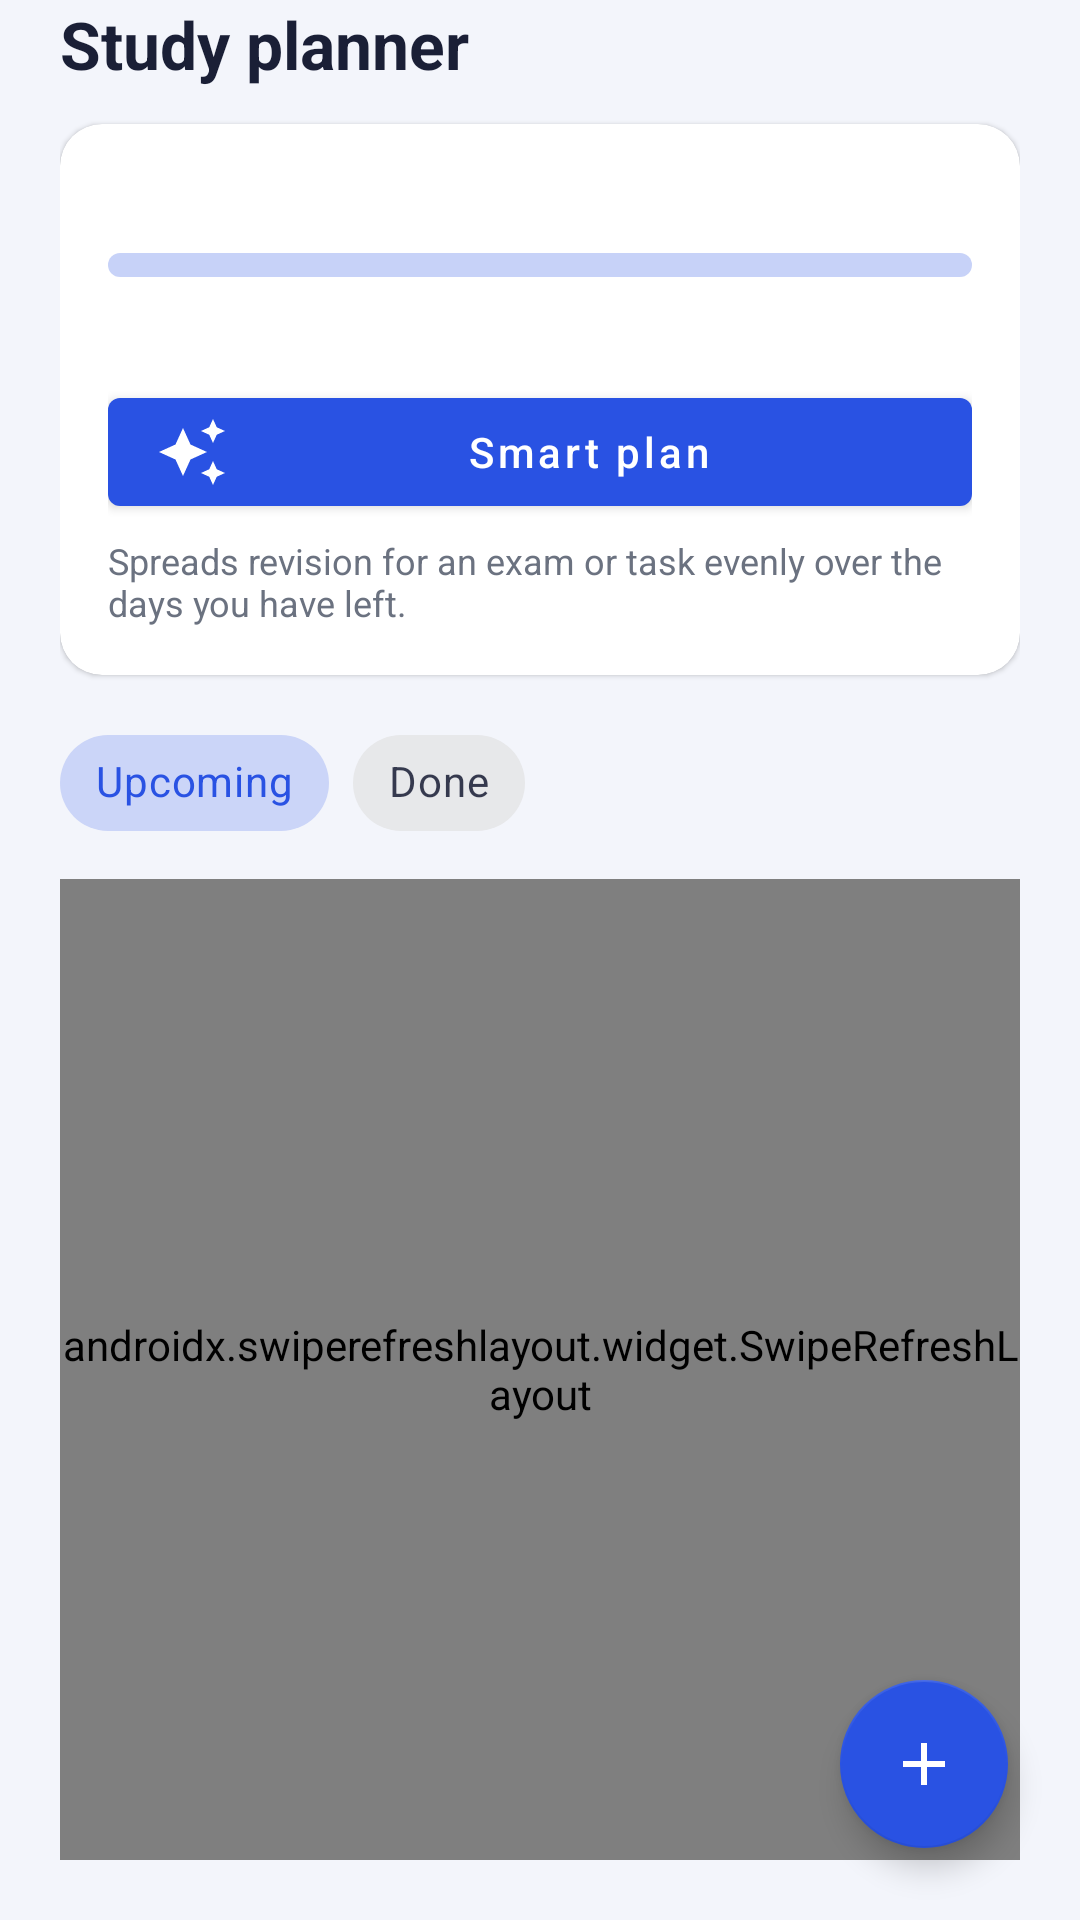

Locate icon controls on the screen. Image size 1080×1920, boxes as (x1, y1, x2, y2).
Add study session: (840, 1680, 1008, 1848)
